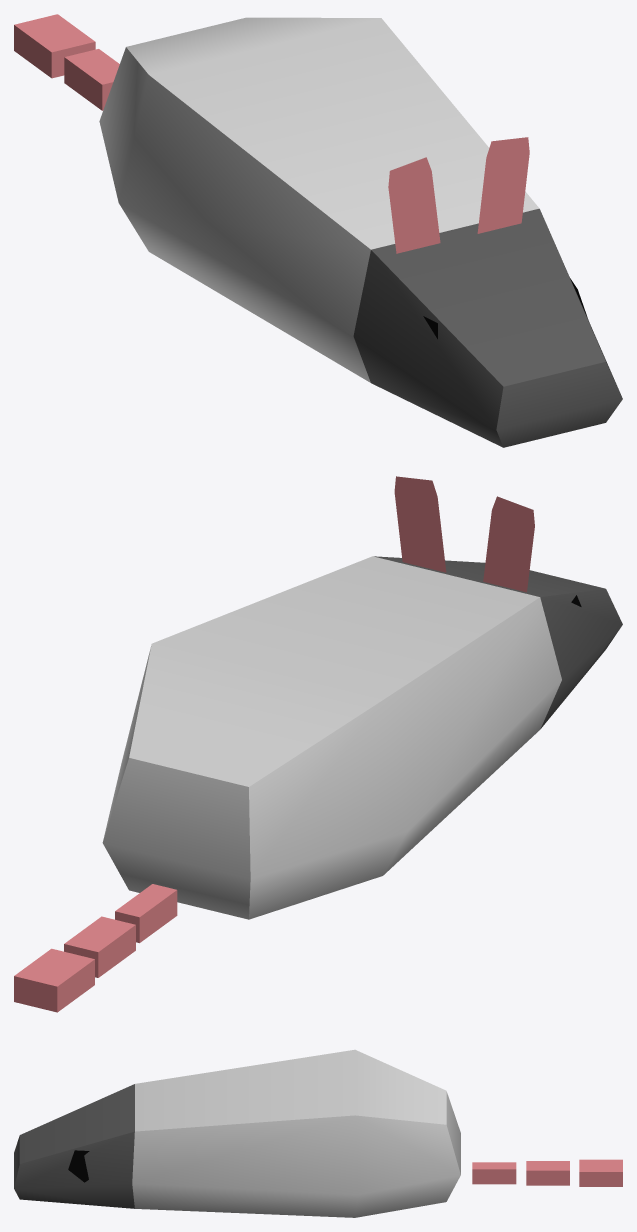
The model's file is Rat.fbx.
3 views of the same model, one above another, from view 1: azimuth 30°, elevation 25°; view 2: azimuth 150°, elevation 25°; view 3: azimuth 270°, elevation 25° (orthographic). The views are drawn at different scales.
Visible parts, largest first — view 1: Body_Rat, tail03_Rat, tail02_Rat; view 2: Body_Rat, tail03_Rat, tail02_Rat, tail01_Rat; view 3: Body_Rat, tail03_Rat, tail02_Rat, tail01_Rat.
Boxes of the visible parts, x1,y1,x2,y2 form: Body_Rat: (99,17,622,447); tail03_Rat: (14,14,95,78); tail02_Rat: (64,49,119,110); Body_Rat: (102,476,622,919); tail03_Rat: (14,948,94,1012); tail02_Rat: (64,916,135,977); tail01_Rat: (115,884,177,943); Body_Rat: (14,1049,460,1217); tail03_Rat: (579,1159,622,1186); tail02_Rat: (526,1161,569,1185); tail01_Rat: (472,1162,516,1184).
Bounding box in the file's own units: 2.25 × 1.64 × 7.14.
